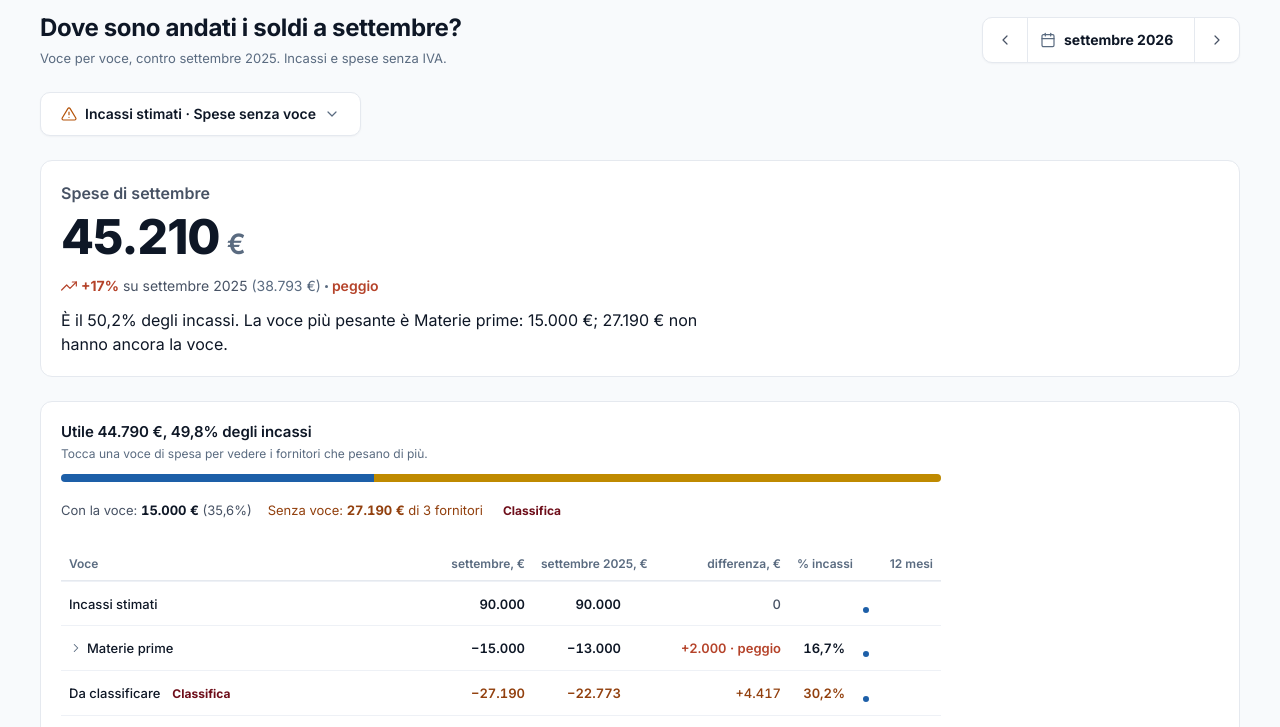
Test case: «Da classificare» nel conto, al computer (CE3) › nella riga c'è «Classifica», che apre la schermata delle voci
The width and height of the screenshot is (1280, 727).
expect the row "Da classificare Classifica −27.190 −22.773 +4.417 30,2%" is shown: met, box left=61, top=670, right=941, bottom=715
Click the button "Classifica" next to "Da classificare": point(201, 693) left=168, top=671, right=234, bottom=715
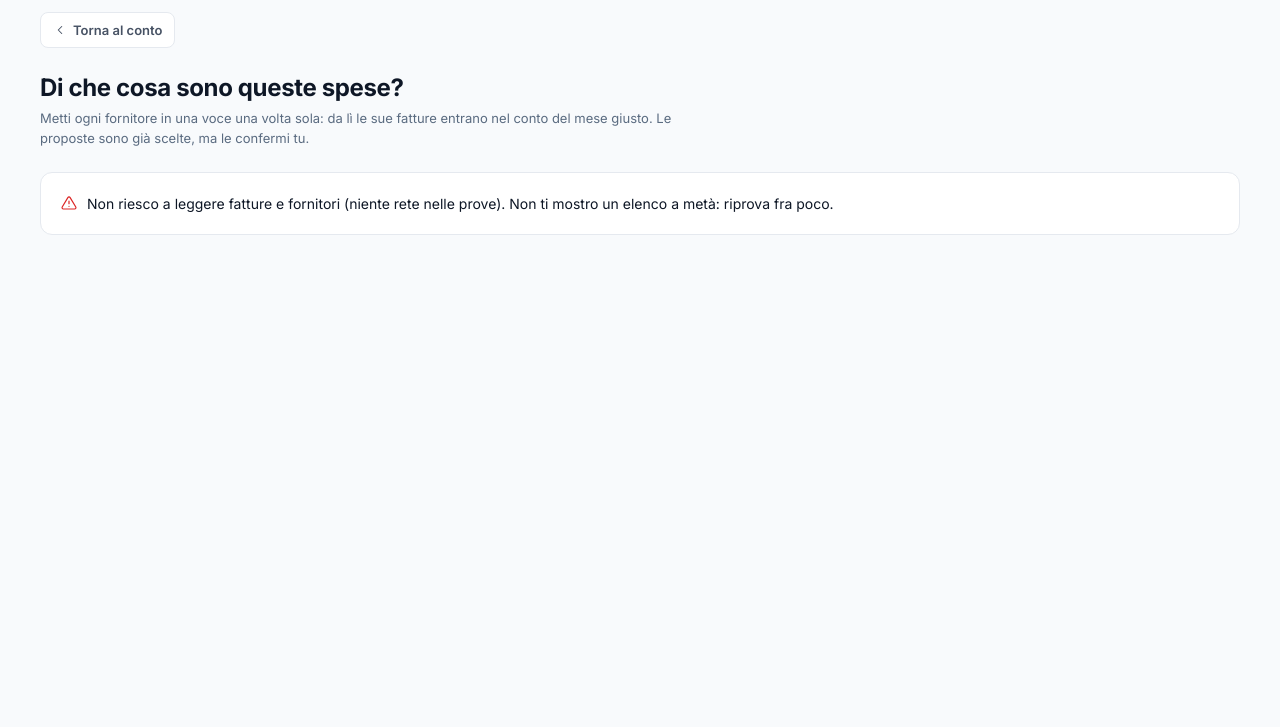
expect the text "Di che cosa sono queste spese" is shown: met, box left=40, top=73, right=404, bottom=102
